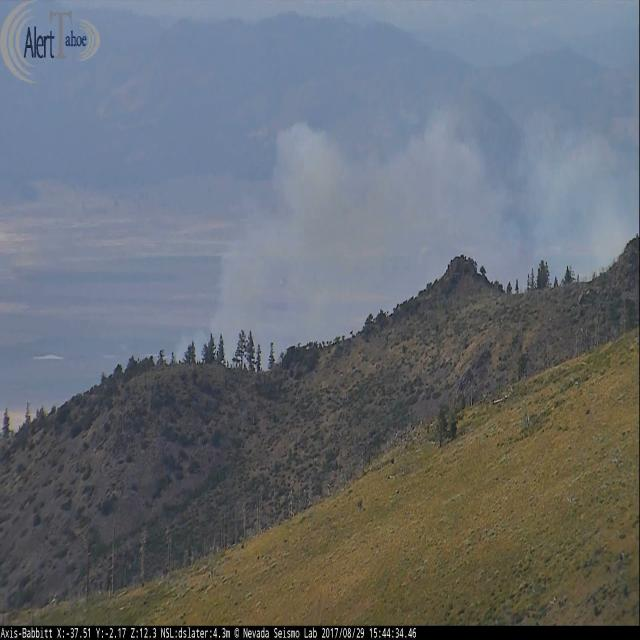smoke: (172, 102, 640, 369)
